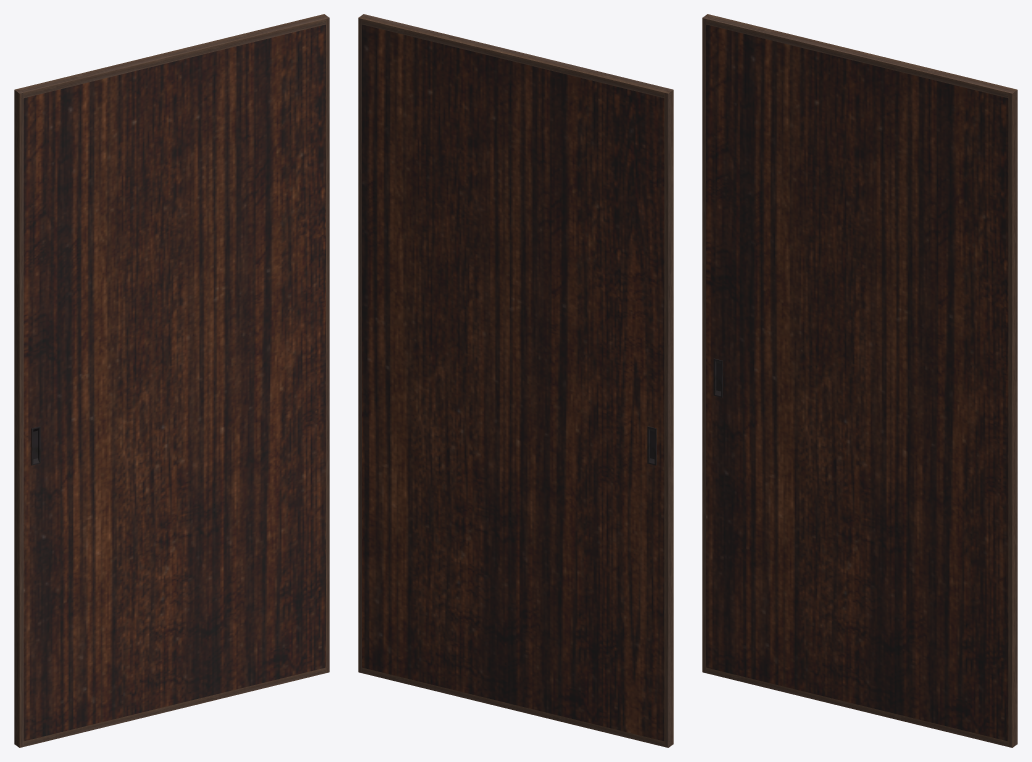
The model's file is hikido01a.fbx.
The picture shows the model from 3 angles, left to right: view 1: azimuth 30°, elevation 25°; view 2: azimuth 150°, elevation 25°; view 3: azimuth 330°, elevation 25°; orthographic projection.
Parts seen in each view (by area): view 1: hikido01a; view 2: hikido01a; view 3: hikido01a.
Part boxes in pixels (<box>): hikido01a: <box>14,14,329,747</box>; hikido01a: <box>358,14,673,747</box>; hikido01a: <box>702,14,1017,747</box>.
Size of the model in its own units: 110 by 221 by 3.82.
